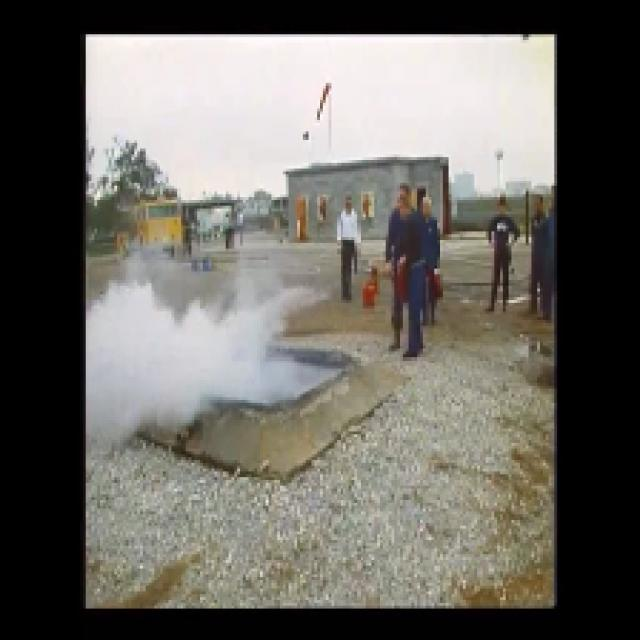smoke: (92, 287, 299, 448)
